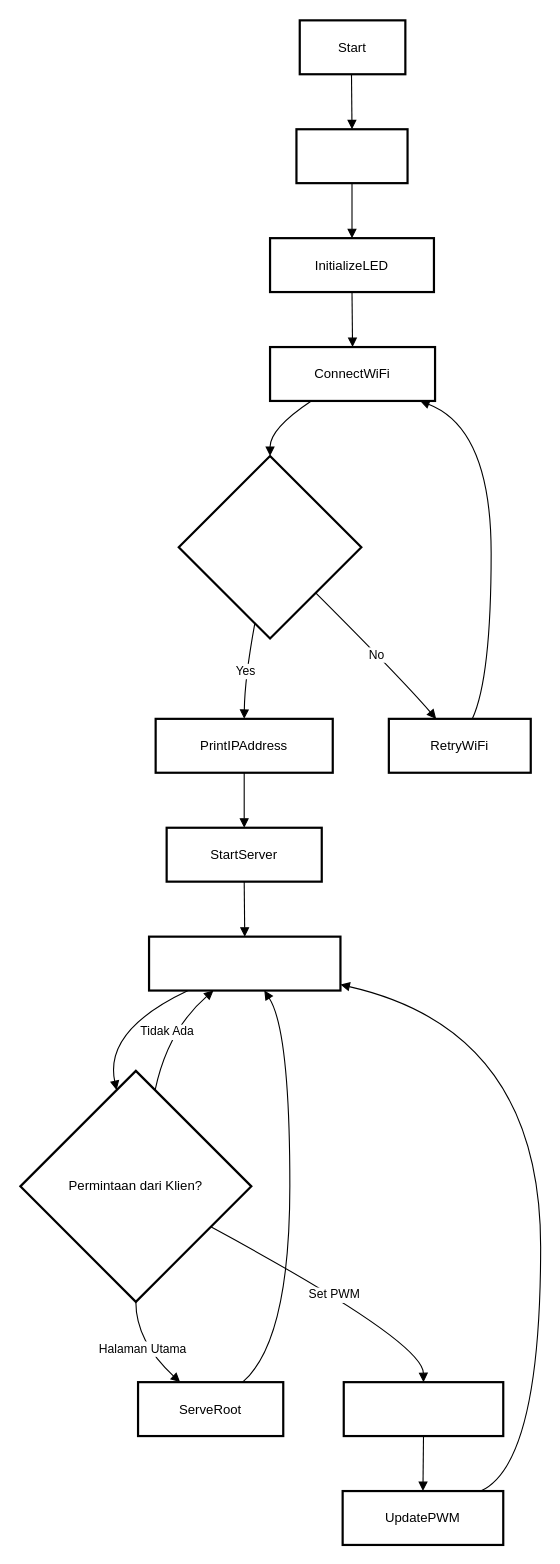
This 560x1564 diagram has some shape labels left out. Each missing label, with the centre of its shape:
"HandlePWM" belongs at (423,1408).
"Setup" belongs at (351,156).
"WaitForRequest" belongs at (244,963).
"WiFi Terhubung?" belongs at (269,546).
